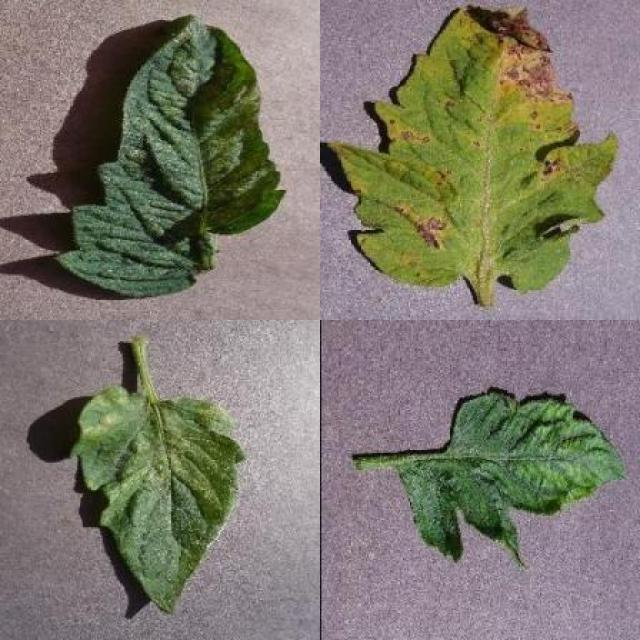Mosaic Virus: (399, 390, 626, 570)
Septoria: (332, 3, 618, 290)
Spider Mites: (60, 13, 286, 296), (70, 384, 244, 616)
